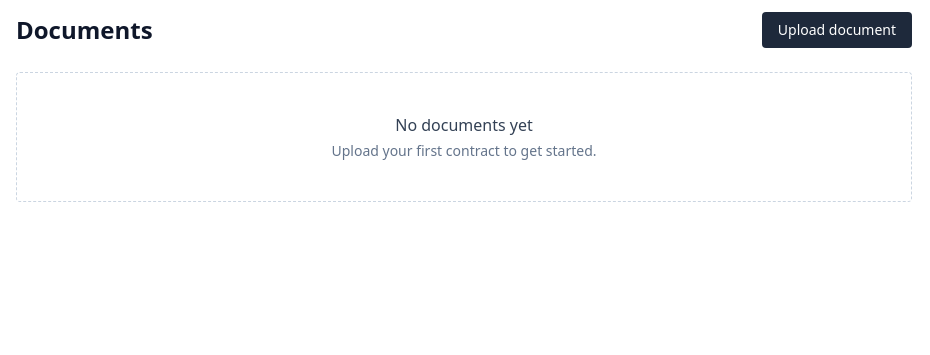
Test: DocumentsPage › rejects an unsupported file type client-side
The width and height of the screenshot is (930, 355).
Later steps or results of the test are not shown.
Check: the element with test id "empty-state" is shown, box [16, 72, 912, 202]
Click the button with test id "toggle-upload". click: (837, 30)
box: [762, 12, 912, 48]
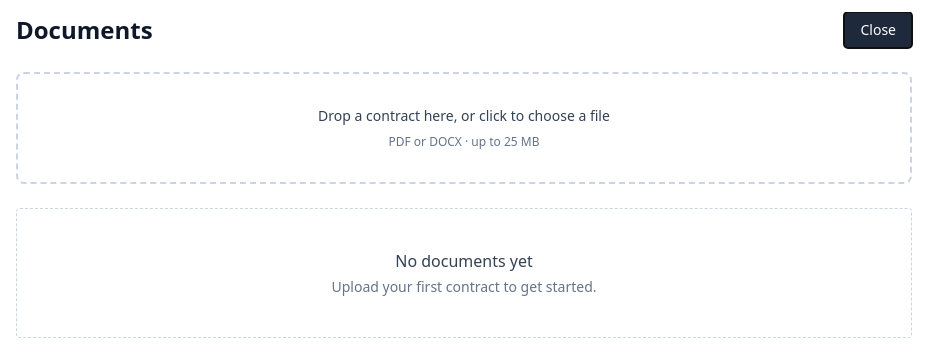
Check: the element with test id "file-input" is shown, box [16, 72, 912, 184]
